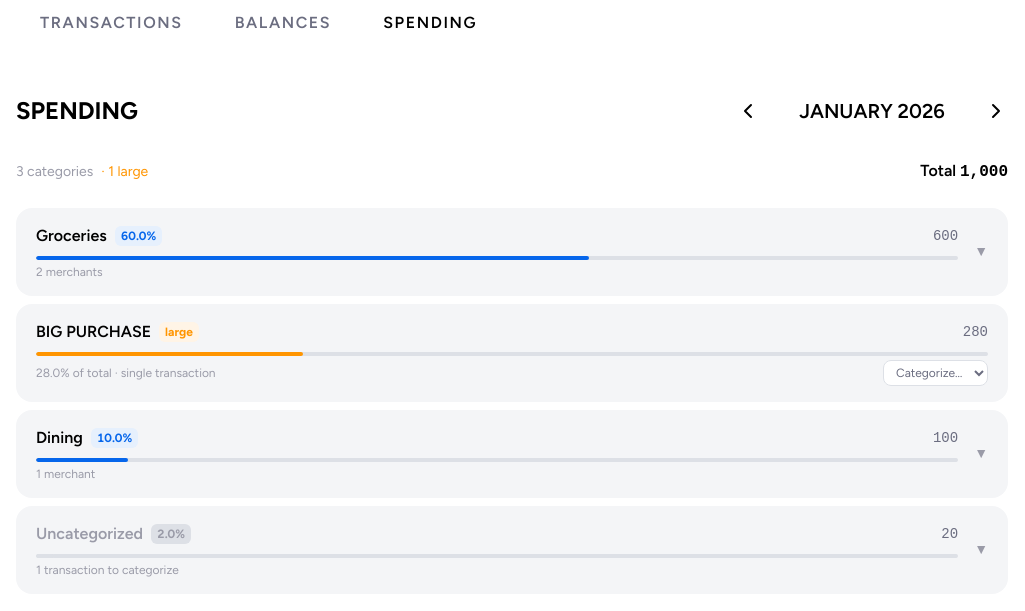
Test case: Spending page › categorizes a large transaction from its own card
The width and height of the screenshot is (1025, 611).
Select "Rent" in the dropdown: (936, 373) [883, 360, 988, 386]
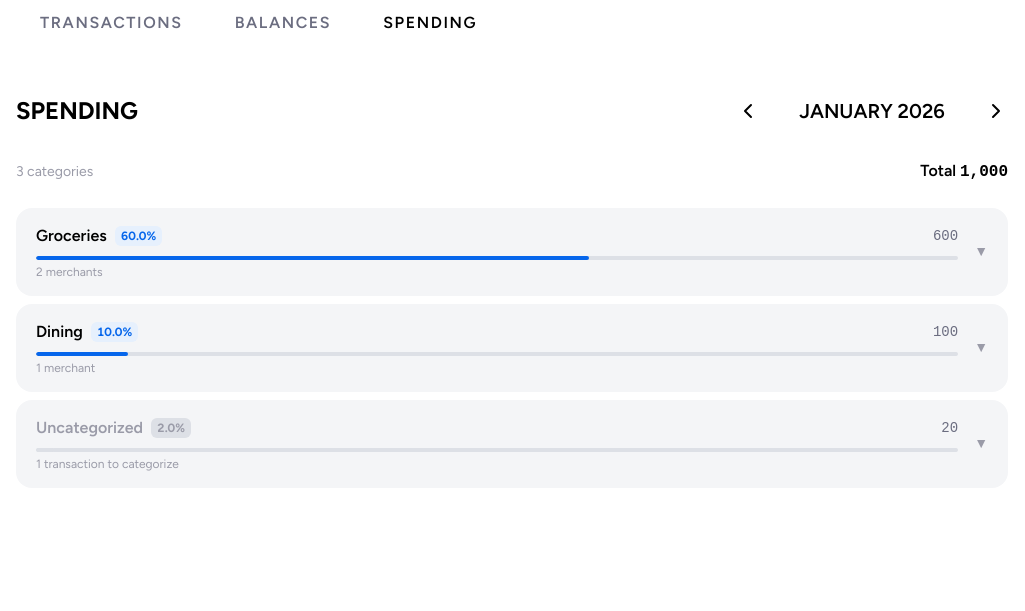
Now the text "BIG PURCHASE" is gone
